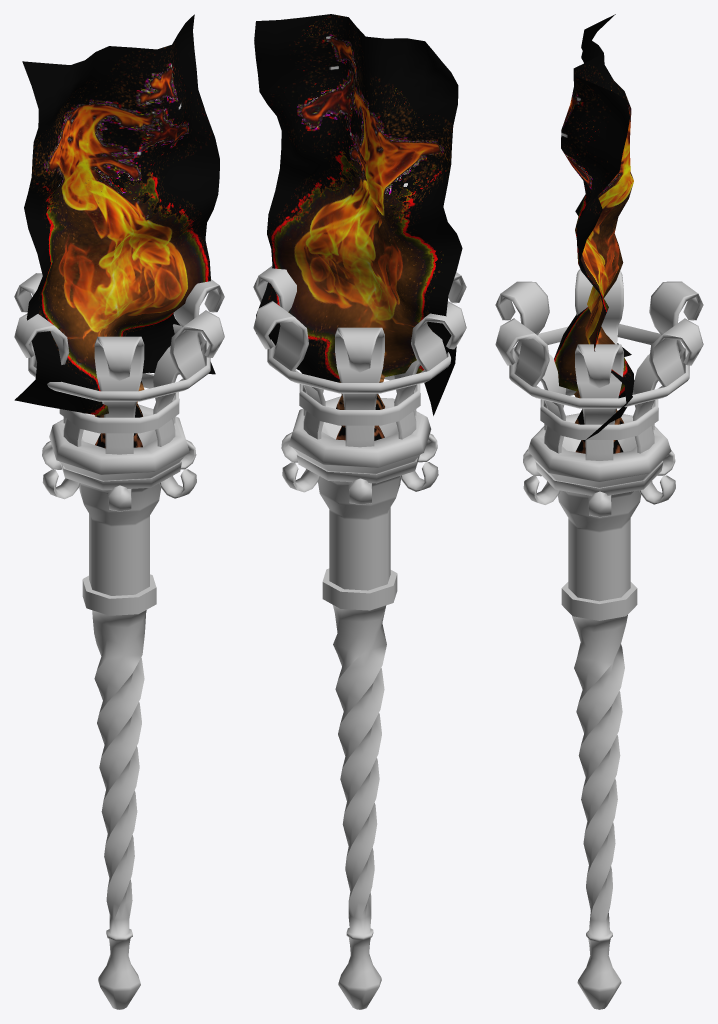
The model's file is manor_torch.obj.
The picture shows the model from 3 angles, left to right: view 1: azimuth 30°, elevation 25°; view 2: azimuth 150°, elevation 25°; view 3: azimuth 270°, elevation 25°; orthographic projection. The views are drawn at different scales.
Parts seen in each view (by area): view 1: Object_2, Object_3; view 2: Object_2, Object_3; view 3: Object_3, Object_2.
Part boxes in pixels (bbox=[...]): Object_2: bbox=[14, 14, 219, 415]; Object_3: bbox=[14, 273, 224, 1009]; Object_2: bbox=[254, 14, 462, 415]; Object_3: bbox=[253, 266, 466, 1009]; Object_3: bbox=[495, 269, 703, 1009]; Object_2: bbox=[554, 14, 634, 440].
Size of the model in its own units: 19.22 by 88.87 by 17.6.
